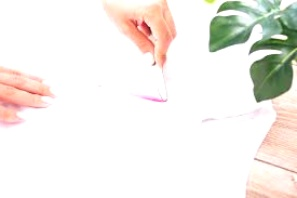lipstick: (89, 90, 170, 106)
